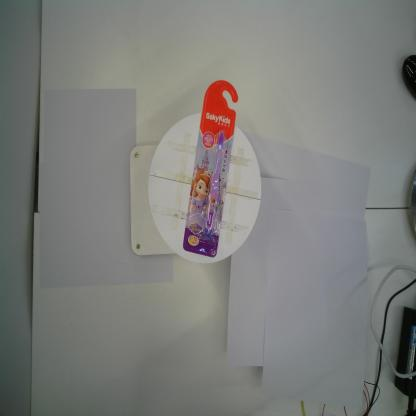Personal Hygiene: (182, 80, 239, 260)
